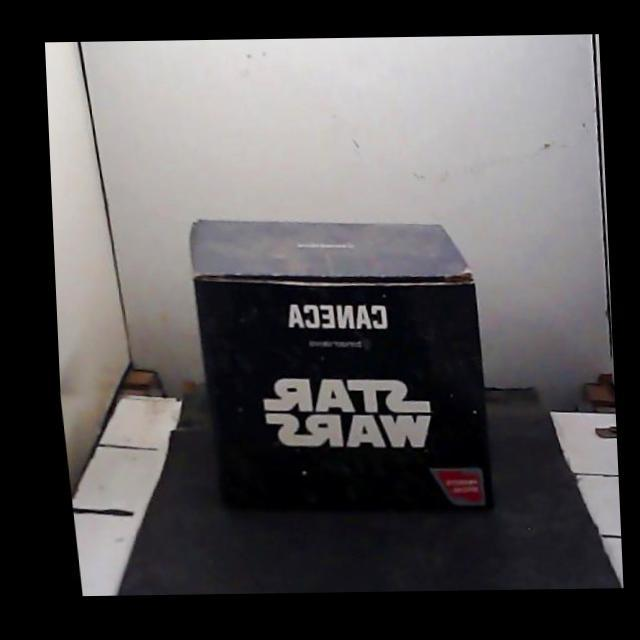papel: (190, 220, 492, 510)
